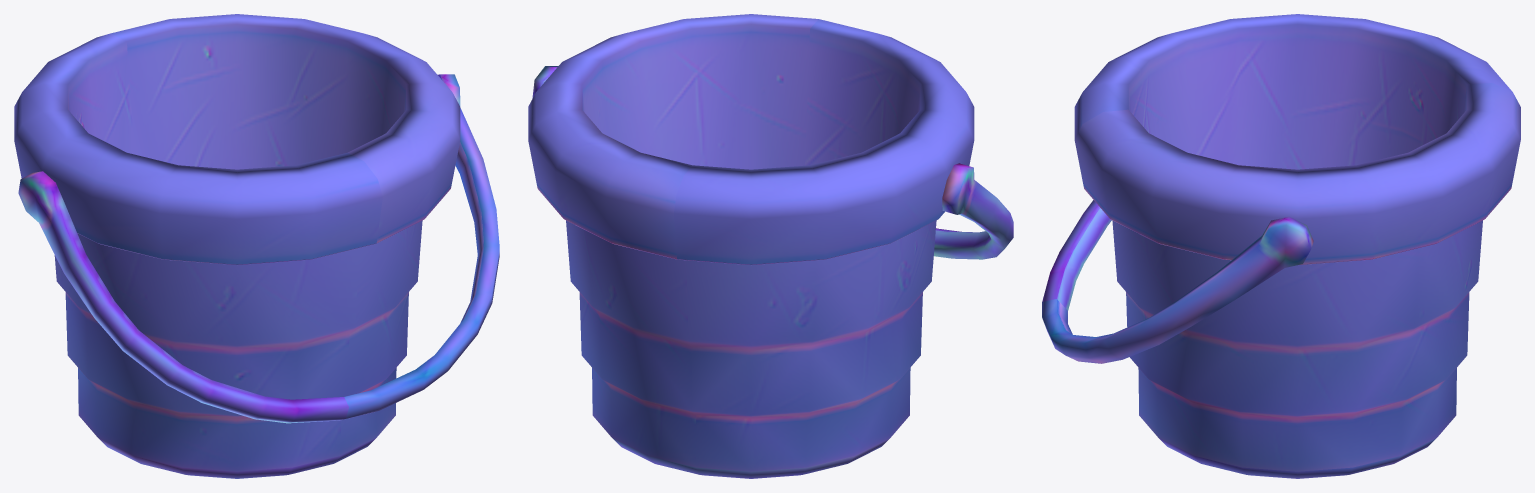
The model's file is Bucket.fbx.
3 renders of one model, left to right at view 1: azimuth 30°, elevation 25°; view 2: azimuth 150°, elevation 25°; view 3: azimuth 270°, elevation 25°, orthographic.
Parts seen in each view (by area): view 1: SandBucket_01; view 2: SandBucket_01; view 3: SandBucket_01.
Part boxes in pixels (x1,y1,x2,y2): SandBucket_01: (14, 14, 499, 478); SandBucket_01: (528, 14, 1013, 478); SandBucket_01: (1042, 14, 1520, 478).
Size of the model in its own units: 0.3333 by 0.3235 by 0.2409.
Materials: 1 (1 with a texture image).
